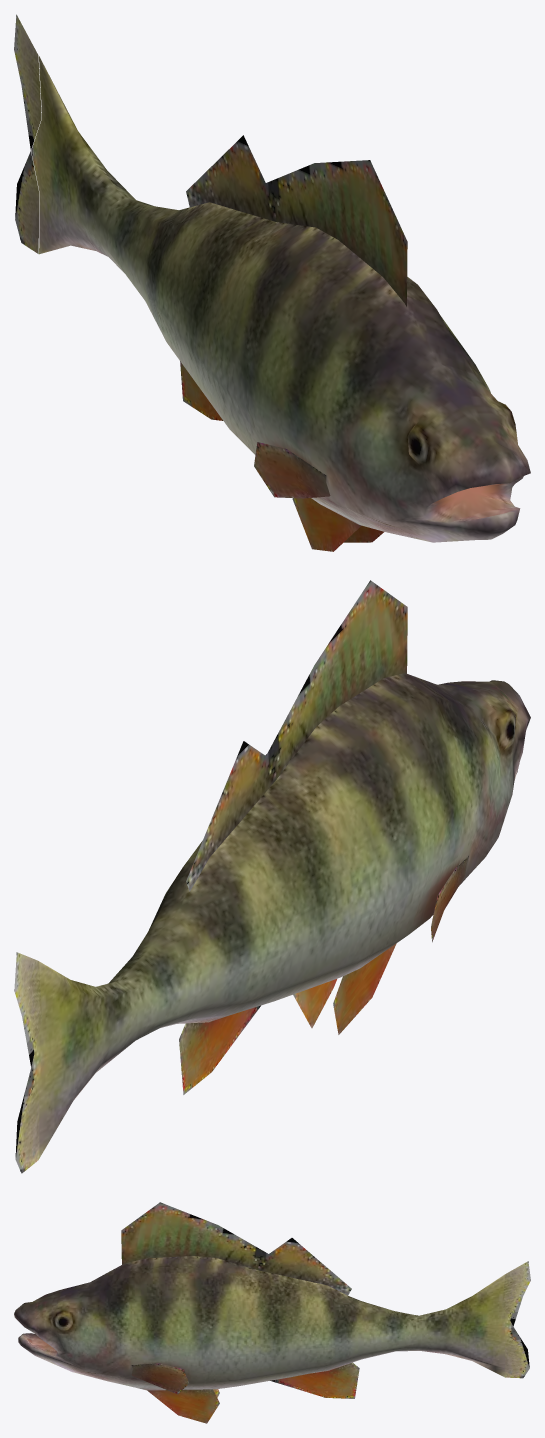
The model's file is yellow_perch_swim.glb.
3 views of the same model, one above another, from view 1: azimuth 30°, elevation 25°; view 2: azimuth 150°, elevation 25°; view 3: azimuth 270°, elevation 25° (orthographic). The views are drawn at different scales.
Visible parts, largest first — view 1: yellow_perch_body_LOD0; view 2: yellow_perch_body_LOD0; view 3: yellow_perch_body_LOD0.
Boxes of the visible parts, <box> form: yellow_perch_body_LOD0: <box>14,14,530,551</box>; yellow_perch_body_LOD0: <box>14,580,530,1173</box>; yellow_perch_body_LOD0: <box>14,1202,530,1423</box>.
Size of the model in its own units: 0.0593 by 0.1319 by 0.2833.
1 material, 1 textured.
